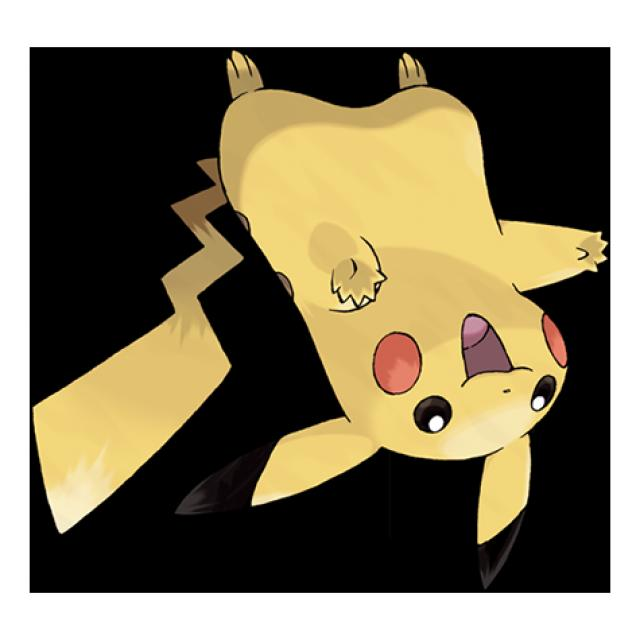Pikachu: (4, 8, 633, 629)
